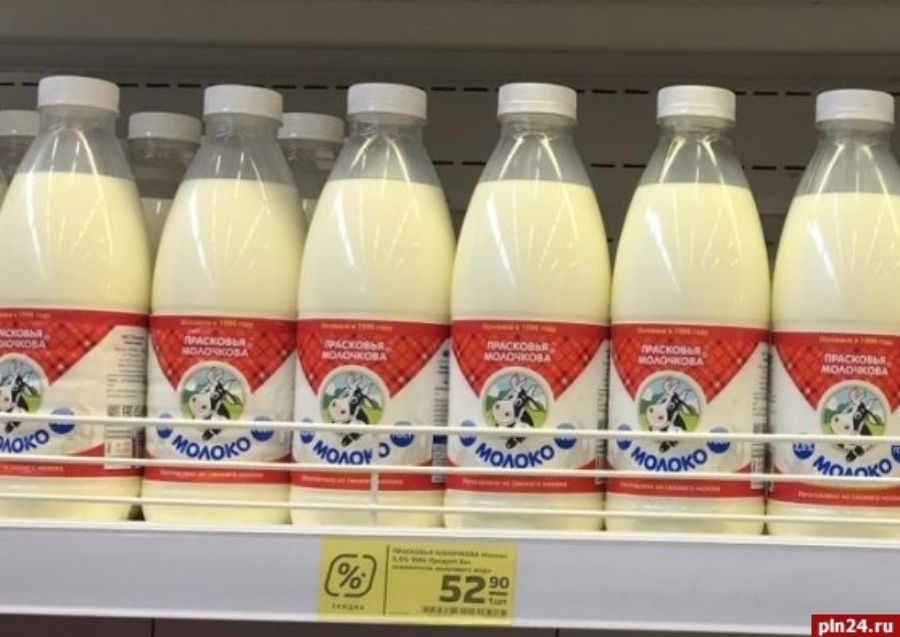milk: (600, 89, 781, 546), (437, 84, 617, 543), (284, 85, 464, 534), (135, 88, 312, 536), (1, 68, 163, 528), (756, 89, 898, 544)
